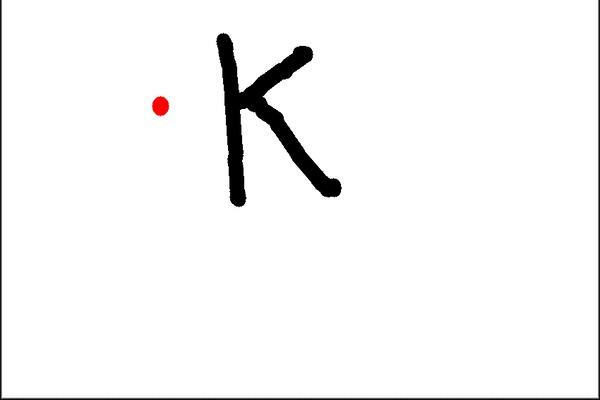K: (211, 27, 350, 210)
